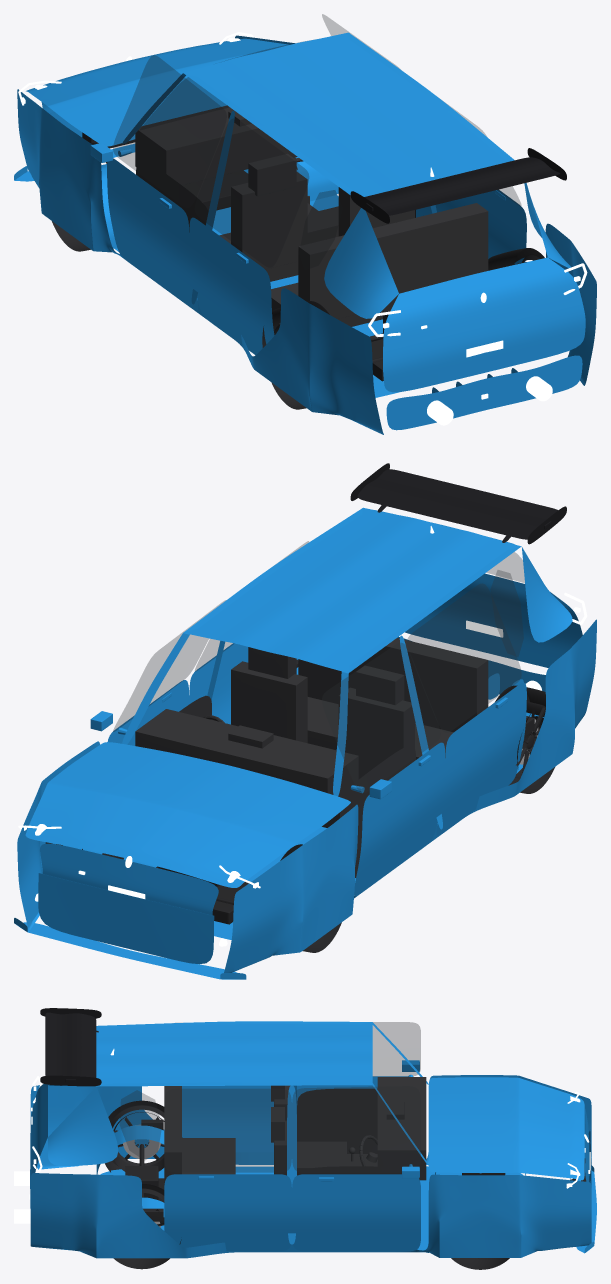
File: Car_Ford_Focus_RS_Mk3_2010s.glb
3 renders of one model, top to bottom at view 1: azimuth 30°, elevation 25°; view 2: azimuth 150°, elevation 25°; view 3: azimuth 270°, elevation 25°, orthographic. The views are drawn at different scales.
Parts seen in each view (by area): view 1: BODY_FocusRS_Unibody, INTERIOR_FocusRS_Cockpit, DOOR_FR, DOOR_RR, AERO_FocusRS_RoofWing, DOOR_RL, LIGHTING_FocusRS_OpticsAndJewelry, GLASS_FocusRS_QuarterGlass, GLASS_FocusRS_Windshield, CHASSIS_FocusRS_Subframe, WHEEL_RL, WHEEL_RR; view 2: BODY_FocusRS_Unibody, INTERIOR_FocusRS_Cockpit, DOOR_FR, DOOR_RR, AERO_FocusRS_RoofWing, DOOR_FL, DOOR_RL, GLASS_FocusRS_QuarterGlass, WHEEL_RR, LIGHTING_FocusRS_OpticsAndJewelry, CHASSIS_FocusRS_Subframe; view 3: BODY_FocusRS_Unibody, DOOR_FL, DOOR_RL, INTERIOR_FocusRS_Cockpit, DOOR_FR, DOOR_RR, AERO_FocusRS_RoofWing, GLASS_FocusRS_QuarterGlass, WHEEL_RR, LIGHTING_FocusRS_OpticsAndJewelry, WHEEL_RL, POWERTRAIN_FocusRS_EcoBoost23 (+1 smaller).
Boxes of the visible parts, <box> form: BODY_FocusRS_Unibody: <box>14,32,596,434</box>; INTERIOR_FocusRS_Cockpit: <box>135,105,488,326</box>; DOOR_FR: <box>90,55,226,310</box>; DOOR_RR: <box>189,118,308,354</box>; AERO_FocusRS_RoofWing: <box>350,148,566,223</box>; DOOR_RL: <box>442,103,526,264</box>; LIGHTING_FocusRS_OpticsAndJewelry: <box>18,32,587,425</box>; GLASS_FocusRS_QuarterGlass: <box>299,190,342,269</box>; GLASS_FocusRS_Windshield: <box>140,43,293,129</box>; CHASSIS_FocusRS_Subframe: <box>182,170,383,381</box>; WHEEL_RL: <box>488,248,544,270</box>; WHEEL_RR: <box>262,301,329,409</box>; BODY_FocusRS_Unibody: <box>14,507,596,979</box>; INTERIOR_FocusRS_Cockpit: <box>135,638,488,827</box>; DOOR_FR: <box>322,643,444,895</box>; DOOR_RR: <box>407,583,526,835</box>; AERO_FocusRS_RoofWing: <box>350,463,566,544</box>; DOOR_FL: <box>90,600,225,745</box>; DOOR_RL: <box>189,541,308,724</box>; GLASS_FocusRS_QuarterGlass: <box>490,570,523,656</box>; WHEEL_RR: <box>495,685,554,793</box>; LIGHTING_FocusRS_OpticsAndJewelry: <box>18,526,587,946</box>; CHASSIS_FocusRS_Subframe: <box>156,866,248,924</box>; BODY_FocusRS_Unibody: <box>30,1021,596,1258</box>; DOOR_FL: <box>292,1086,420,1251</box>; DOOR_RL: <box>164,1089,291,1251</box>; INTERIOR_FocusRS_Cockpit: <box>164,1077,426,1184</box>; DOOR_FR: <box>297,1022,420,1153</box>; DOOR_RR: <box>182,1085,273,1152</box>; AERO_FocusRS_RoofWing: <box>40,1008,101,1086</box>; GLASS_FocusRS_QuarterGlass: <box>120,1090,161,1160</box>; WHEEL_RR: <box>105,1100,182,1172</box>; LIGHTING_FocusRS_OpticsAndJewelry: <box>14,1049,590,1223</box>; WHEEL_RL: <box>113,1184,181,1269</box>; POWERTRAIN_FocusRS_EcoBoost23: <box>125,1144,586,1200</box>.
Size of what is drawn, in the model's own units: 2.05 by 1.55 by 4.56.
